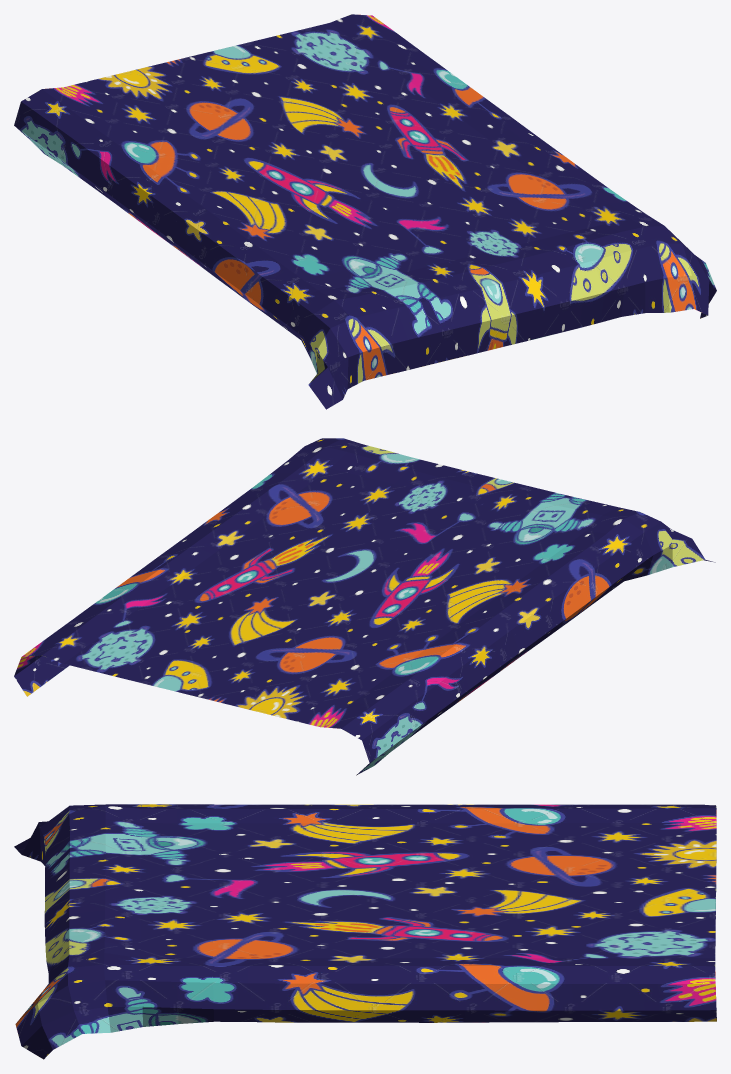
File: bedsheet.obj
3 views of the same model, one above another, from view 1: azimuth 30°, elevation 25°; view 2: azimuth 150°, elevation 25°; view 3: azimuth 270°, elevation 25° (orthographic). The views are drawn at different scales.
Visible parts, largest first — view 1: Bed:Plane bed; view 2: Bed:Plane bed; view 3: Bed:Plane bed.
Part boxes in pixels (<box>): Bed:Plane bed: <box>14,14,716,409</box>; Bed:Plane bed: <box>14,438,715,775</box>; Bed:Plane bed: <box>14,804,716,1059</box>.
Size of the model in its own units: 10.48 by 1.9 by 14.68.
1 material, 1 textured.
